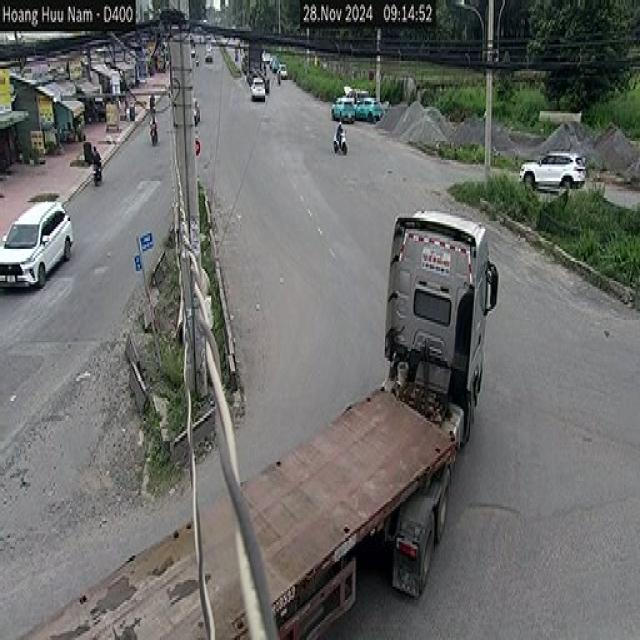car: (1, 197, 74, 294), (516, 138, 590, 196)
container-truck: (0, 193, 506, 640)
